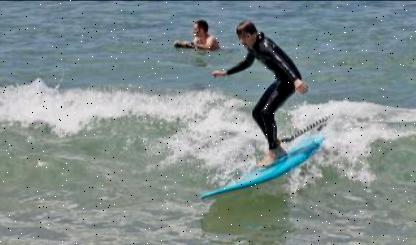person: (209, 16, 314, 166), (170, 17, 221, 56)
